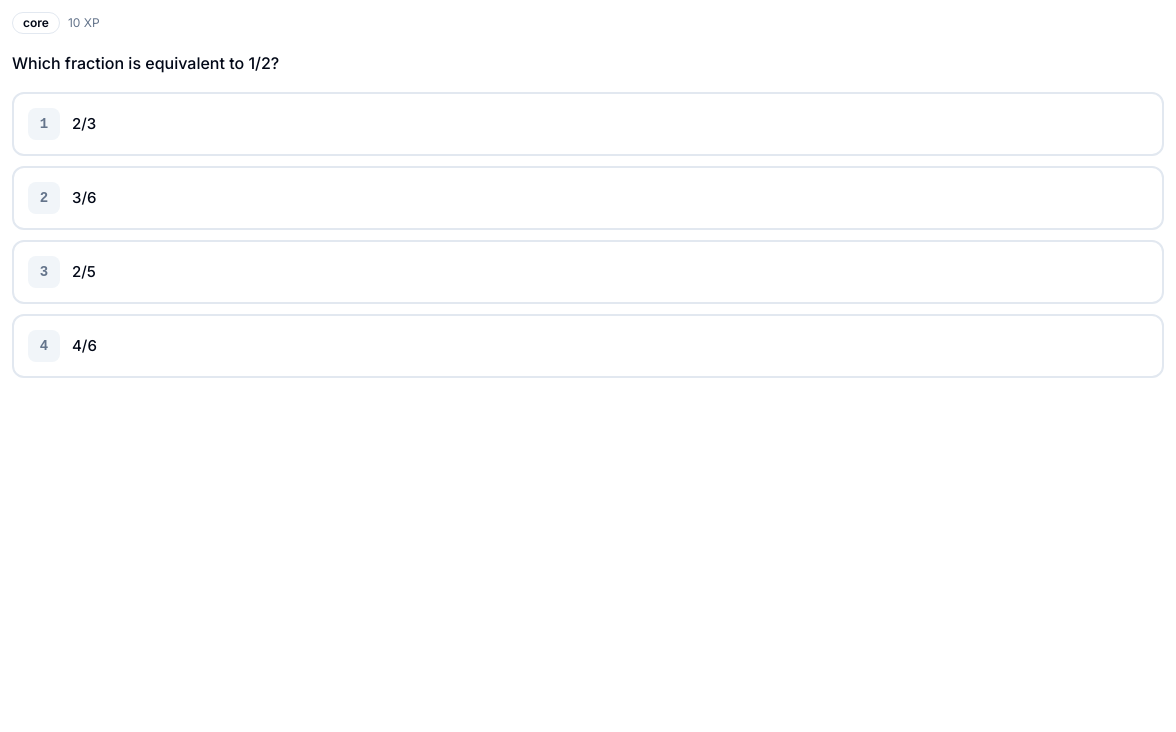
Test: QuestionShell › shows correct feedback when right answer is selected
The width and height of the screenshot is (1176, 732).
Click the text "3/6".
click(84, 198)  # box [72, 188, 96, 208]
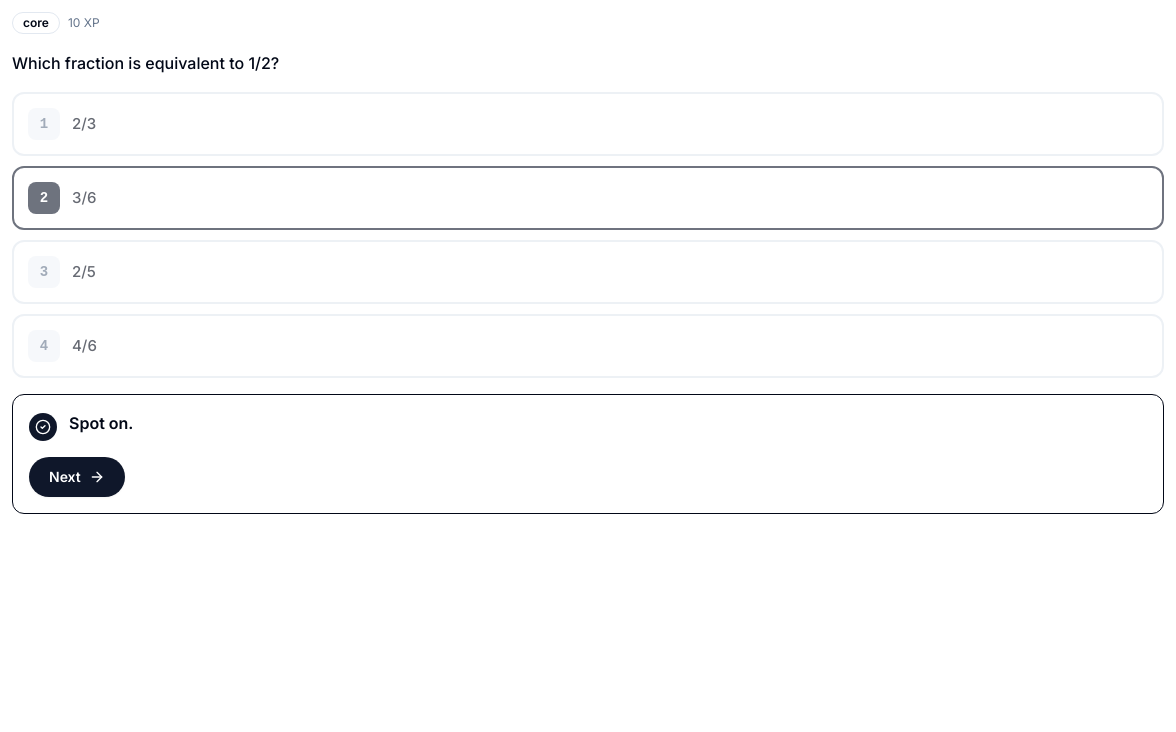
Expected: the text "Spot on." is shown, [69, 413, 134, 433]
